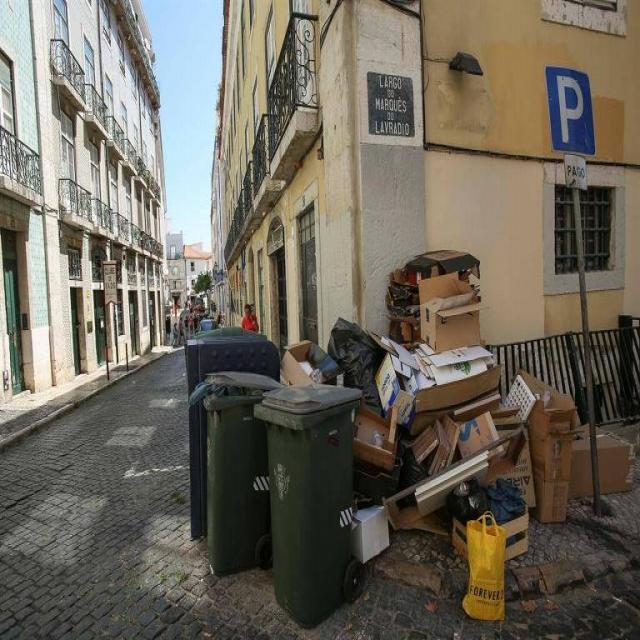garbage: (325, 246, 623, 640)
